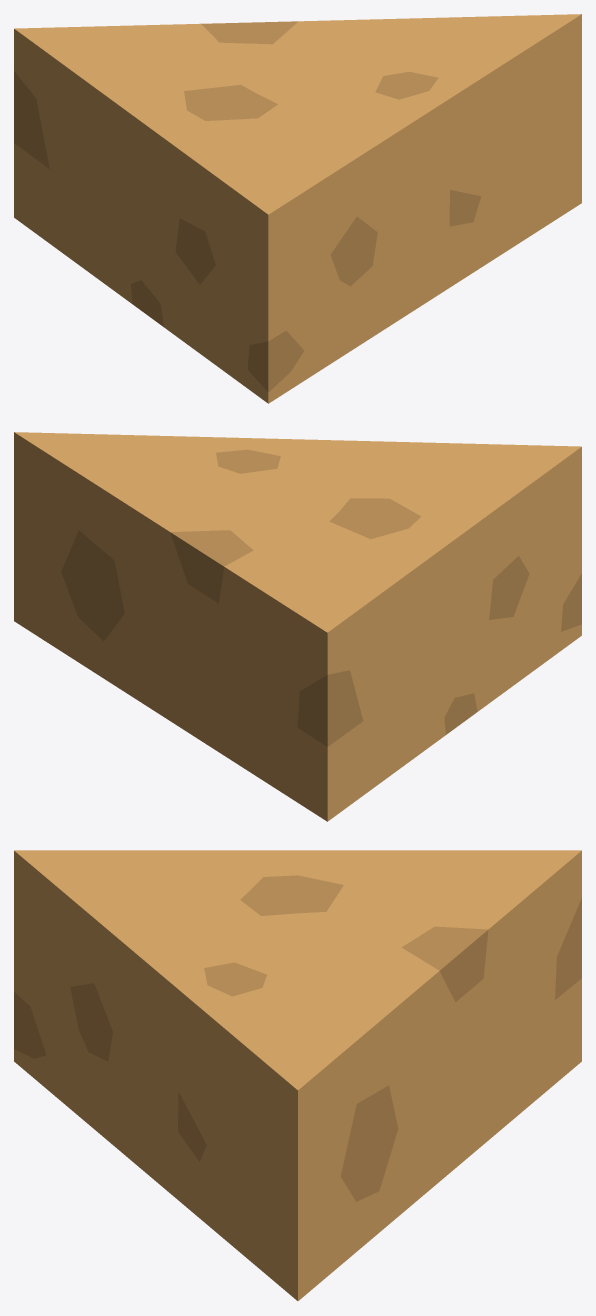
File: Cheese.fbx
3 renders of one model, top to bottom at view 1: azimuth 30°, elevation 25°; view 2: azimuth 150°, elevation 25°; view 3: azimuth 270°, elevation 25°, orthographic. The views are drawn at different scales.
Visible parts, largest first — view 1: Cheese; view 2: Cheese; view 3: Cheese.
Boxes of the visible parts, x1,y1,x2,y2 form: Cheese: (14,14,581,403); Cheese: (14,432,581,821); Cheese: (14,850,581,1300).
Bounding box in the file's own units: 253 × 104 × 253.
